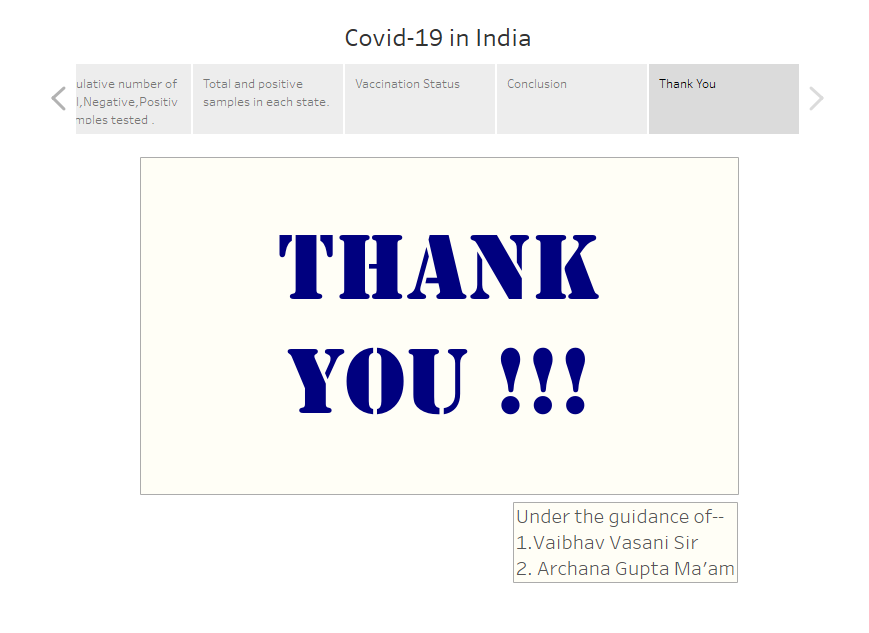

The dashboard page shown, as its layout file describes it:
{"tool":"tableau","page":{"name":"Dashboard 3","canvas":[800,600],"ordinal":2},"visuals":[{"type":"text","box":[348,7,396,66]},{"type":"text","box":[346,52,370,44]},{"type":"text","box":[410,77,362,80]},{"type":"text","box":[349,82,397,66]},{"type":"text","box":[350,125,431,156]},{"type":"text","box":[348,215,422,242]}]}

Visuals, with their boxes on the page's 800x600 design canvas (x1, y1, x2, y2). These are canvas units, not pixel positions in the 869x633 screenshot, which may show the page scaled, cropped or inside an application window:
text: (348, 7, 744, 73)
text: (346, 52, 716, 96)
text: (410, 77, 772, 157)
text: (349, 82, 746, 148)
text: (350, 125, 781, 281)
text: (348, 215, 770, 457)
